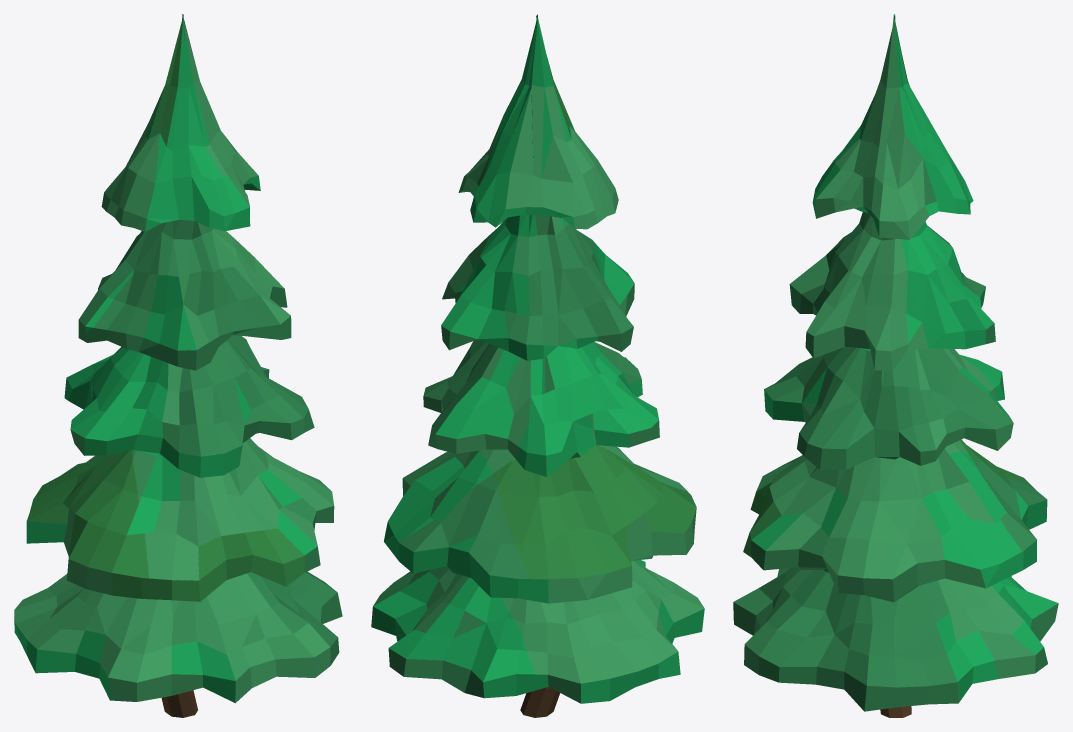
Rendered from tree8.glb.
3 views of the same model, side by side, from view 1: azimuth 30°, elevation 25°; view 2: azimuth 150°, elevation 25°; view 3: azimuth 270°, elevation 25° (orthographic).
Visible parts, largest first — view 1: _8_tree; view 2: _8_tree; view 3: _8_tree.
Part boxes in pixels (x1,y1,x2,y2): _8_tree: (14,14,342,717); _8_tree: (371,14,704,717); _8_tree: (733,14,1058,717).
Size of the model in its own units: 0.9411 by 2.16 by 0.9146.
Materials: 1 (1 with a texture image).
